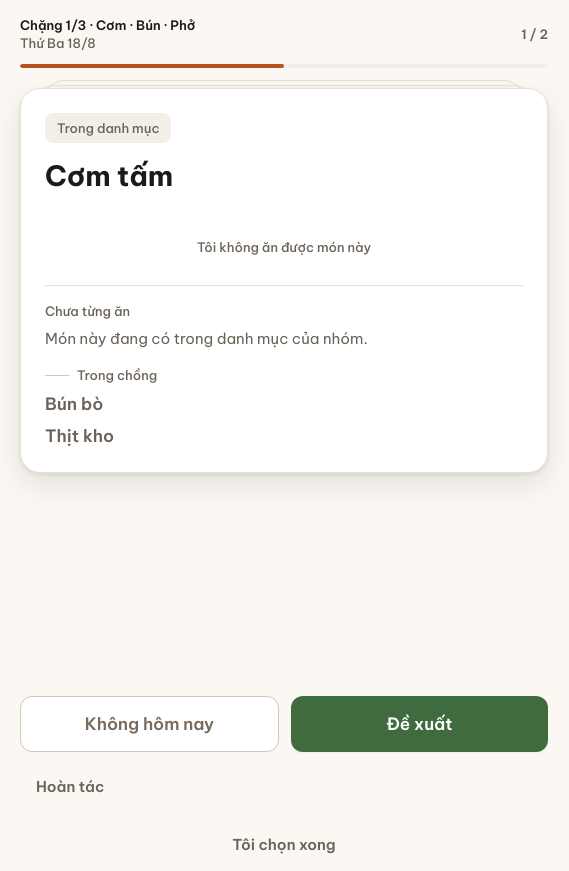
Test: S-09 Deck vuốt › E9-T5 — Giao diện duyệt theo chặng › vuốt tới cursor = 2: Tiêu đề "Chặng 2/3", tiến trình 1 / 3, tự chuyển chặng
// Vuốt thẻ 1 (Cơm tấm)
Click the button with aria-label "Đề xuất Cơm tấm".
click(420, 724)  # box [291, 696, 548, 752]
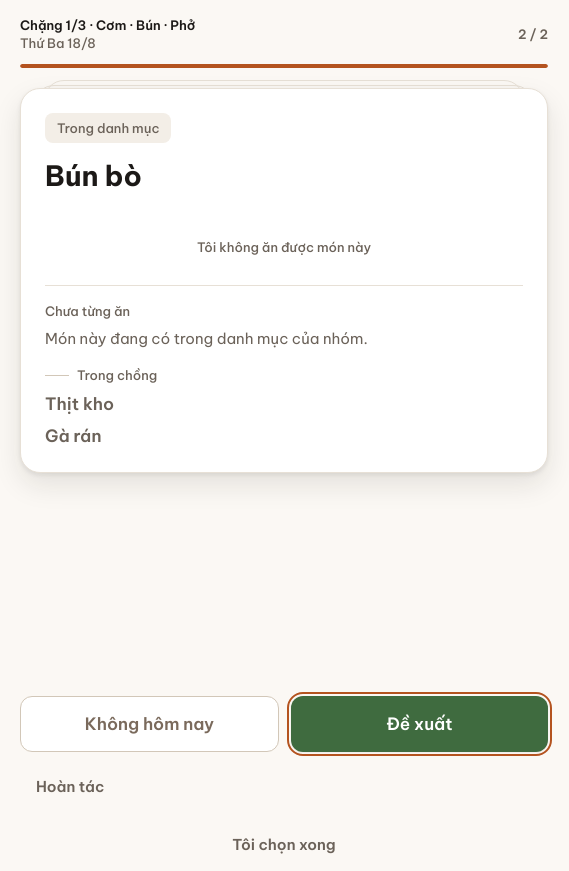
// Vuốt thẻ 2 (Bún bò)
Click the button with aria-label "Đề xuất Bún bò".
click(420, 724)  # box [291, 696, 548, 752]
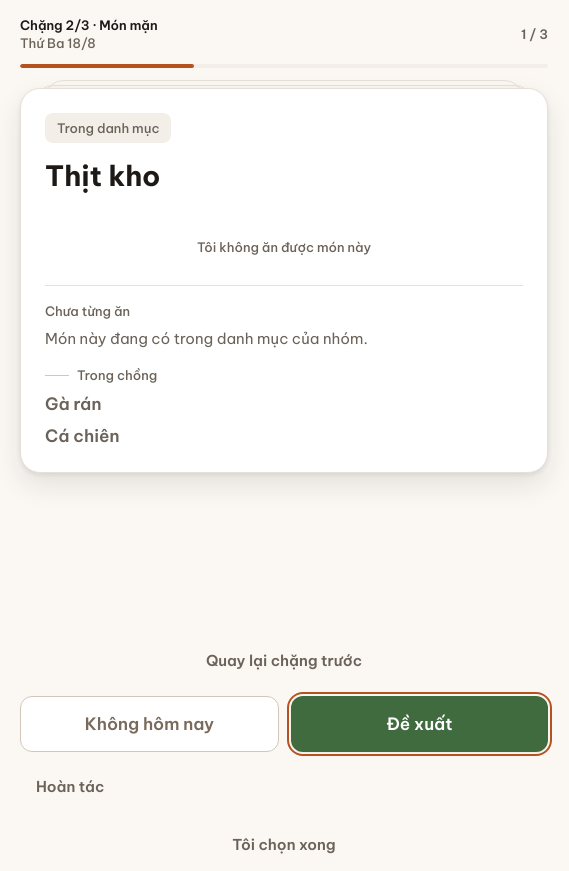
Now the heading "Thịt kho" is shown, box [45, 158, 160, 193]
Now the text "Chặng 2/3 · Món mặn" is shown, box [20, 16, 158, 34]
Now the text "1 / 3" is shown, box [521, 25, 548, 43]
